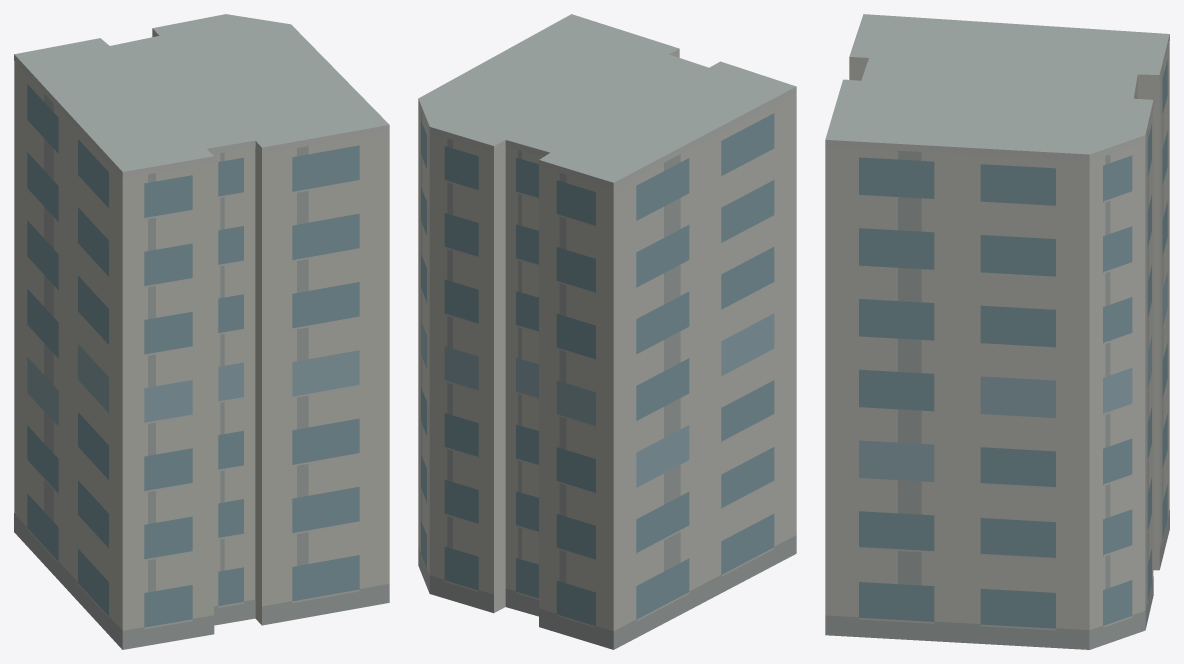
The model's file is survey-upis-32799191.glb.
3 renders of one model, left to right at view 1: azimuth 30°, elevation 25°; view 2: azimuth 150°, elevation 25°; view 3: azimuth 270°, elevation 25°, orthographic. The views are drawn at different scales.
Visible parts, largest first — view 1: survey-upis-32799191.tmp; view 2: survey-upis-32799191.tmp; view 3: survey-upis-32799191.tmp.
Part boxes in pixels (<box>): survey-upis-32799191.tmp: <box>14,14,389,649</box>; survey-upis-32799191.tmp: <box>418,14,796,649</box>; survey-upis-32799191.tmp: <box>825,14,1169,649</box>.
Bounding box in the file's own units: 10.65 × 17.5 × 11.04.
